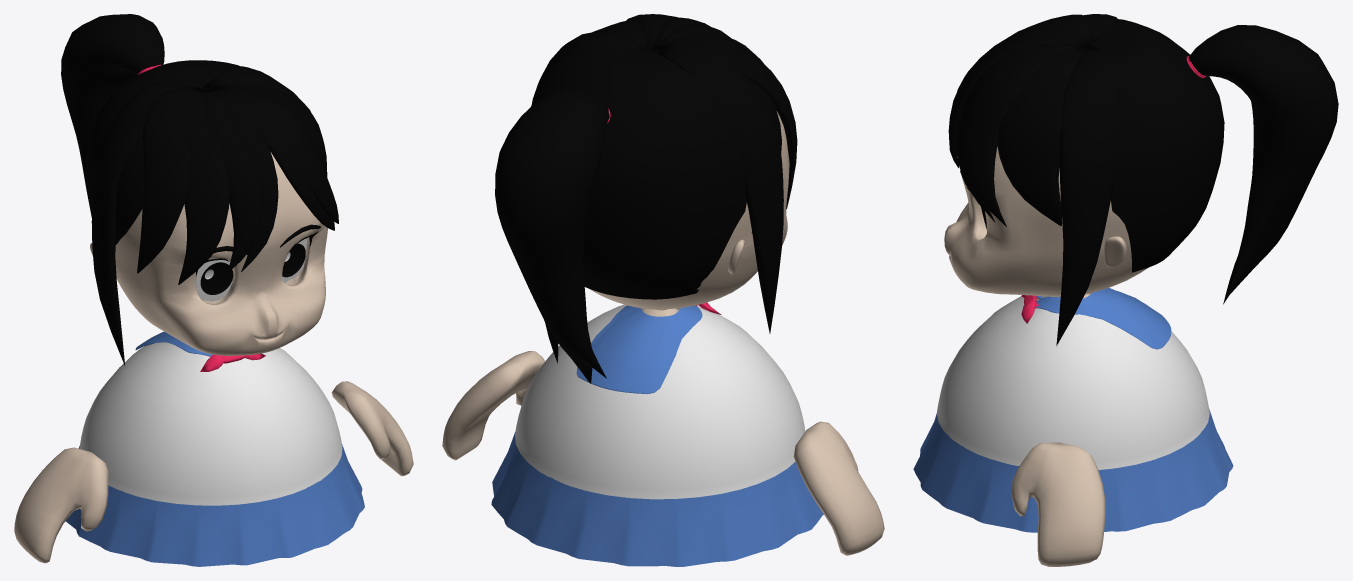
Rendered from PonieTail.fbx.
3 renders of one model, left to right at view 1: azimuth 30°, elevation 25°; view 2: azimuth 150°, elevation 25°; view 3: azimuth 270°, elevation 25°, orthographic. The views are drawn at different scales.
Parts seen in each view (by area): view 1: Hair, Shirt, Skin, Skirt, Hair_Tail, Hand_R, Hand_L, Eye_R, Eye_L, Ribbon1, Eri; view 2: Hair, Shirt, Skirt, Hair_Tail, Hand_R, Eri, Hand_L, Skin; view 3: Hair, Shirt, Hair_Tail, Skirt, Skin, Hand_L, Eri, Ear_L.
Part boxes in pixels (left/top/right/bottom): Hair: left=86, top=60, right=338, bottom=366; Shirt: left=79, top=342, right=342, bottom=505; Skin: left=115, top=152, right=327, bottom=355; Skirt: left=65, top=444, right=364, bottom=566; Hair_Tail: left=61, top=14, right=164, bottom=217; Hand_R: left=14, top=447, right=108, bottom=563; Hand_L: left=331, top=381, right=413, bottom=476; Eye_R: left=200, top=262, right=233, bottom=294; Eye_L: left=282, top=243, right=305, bottom=277; Ribbon1: left=200, top=353, right=265, bottom=371; Eri: left=135, top=331, right=212, bottom=356; Hair: left=531, top=14, right=797, bottom=333; Shirt: left=515, top=304, right=805, bottom=499; Skirt: left=491, top=432, right=823, bottom=566; Hair_Tail: left=495, top=90, right=609, bottom=383; Hand_R: left=793, top=421, right=884, bottom=555; Eri: left=576, top=305, right=702, bottom=394; Hand_L: left=442, top=351, right=544, bottom=460; Skin: left=589, top=111, right=789, bottom=316; Hair: left=948, top=14, right=1224, bottom=345; Shirt: left=936, top=293, right=1209, bottom=469; Hair_Tail: left=1188, top=25, right=1338, bottom=304; Skirt: left=913, top=408, right=1233, bottom=532; Skin: left=944, top=146, right=1148, bottom=300; Hand_L: left=1011, top=442, right=1105, bottom=566; Eri: left=1035, top=288, right=1171, bottom=349; Ear_L: left=1104, top=236, right=1126, bottom=267.
Size of the model in its own units: 523 by 600 by 488.
